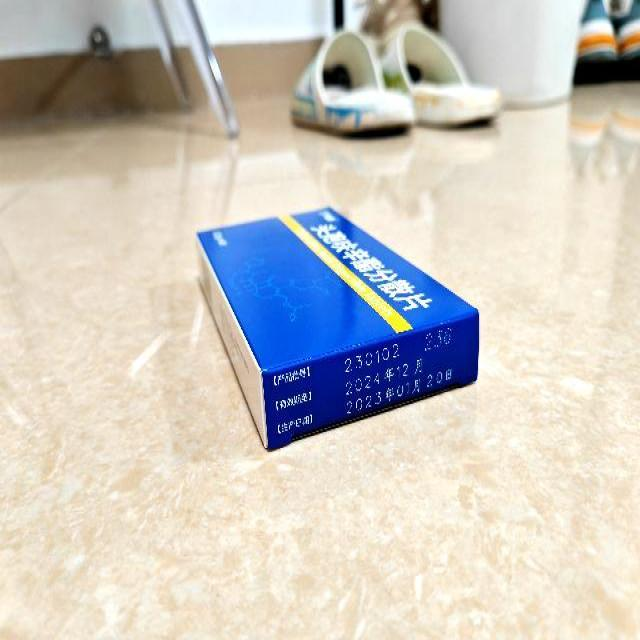box: (197, 205, 479, 456)
